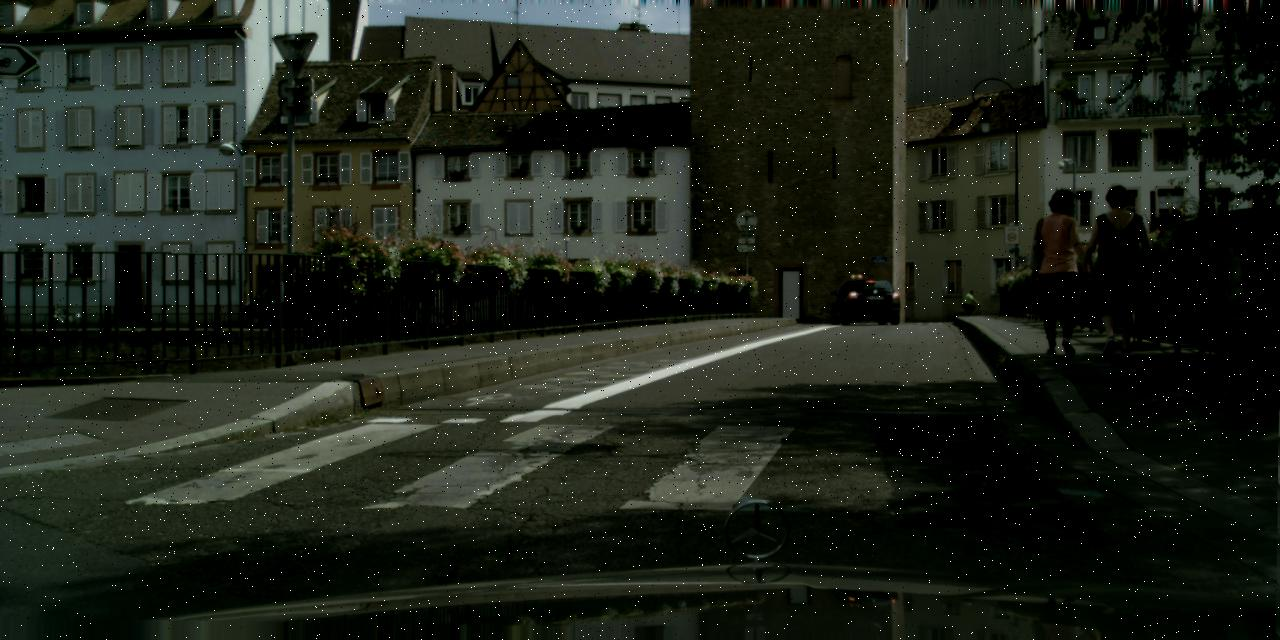ped: (1082, 184, 1152, 356), (1027, 188, 1095, 354), (964, 290, 974, 315)
